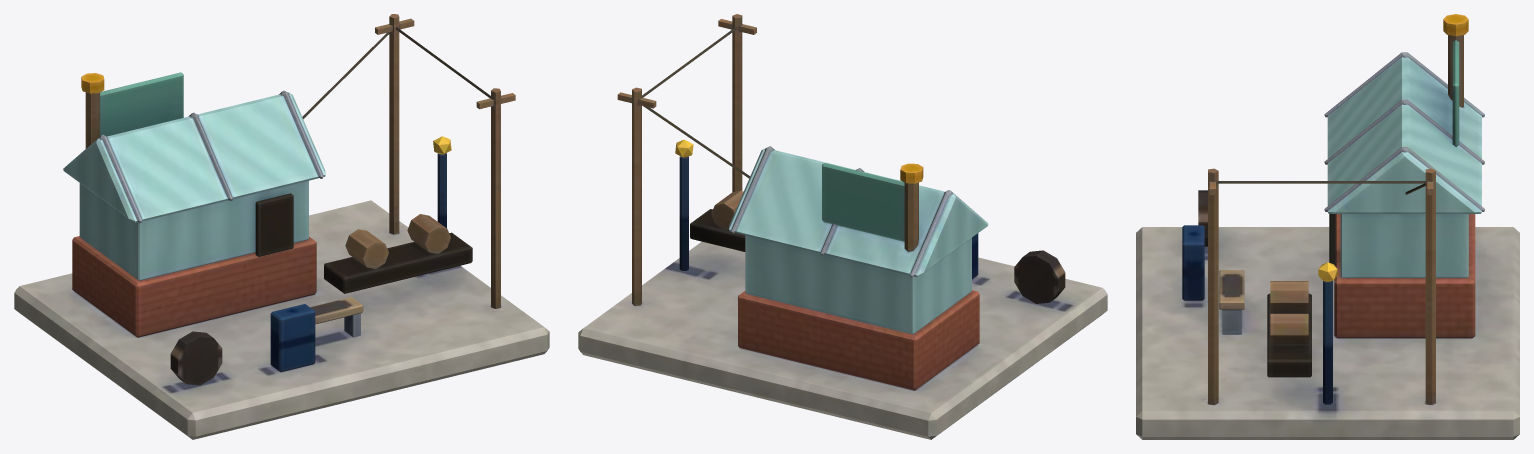
The model's file is lumberyard-20.glb.
3 renders of one model, left to right at view 1: azimuth 30°, elevation 25°; view 2: azimuth 150°, elevation 25°; view 3: azimuth 270°, elevation 25°, orthographic. The views are drawn at different scales.
Visible parts, largest first — view 1: lumberyard-20; view 2: lumberyard-20; view 3: lumberyard-20.
Part boxes in pixels (left/top/right/bottom): lumberyard-20: left=14, top=14, right=549, bottom=439; lumberyard-20: left=578, top=14, right=1107, bottom=439; lumberyard-20: left=1136, top=14, right=1519, bottom=439.
Size of the model in its own units: 1.4 by 0.9 by 1.2.
Materials: 1 (1 with a texture image).
